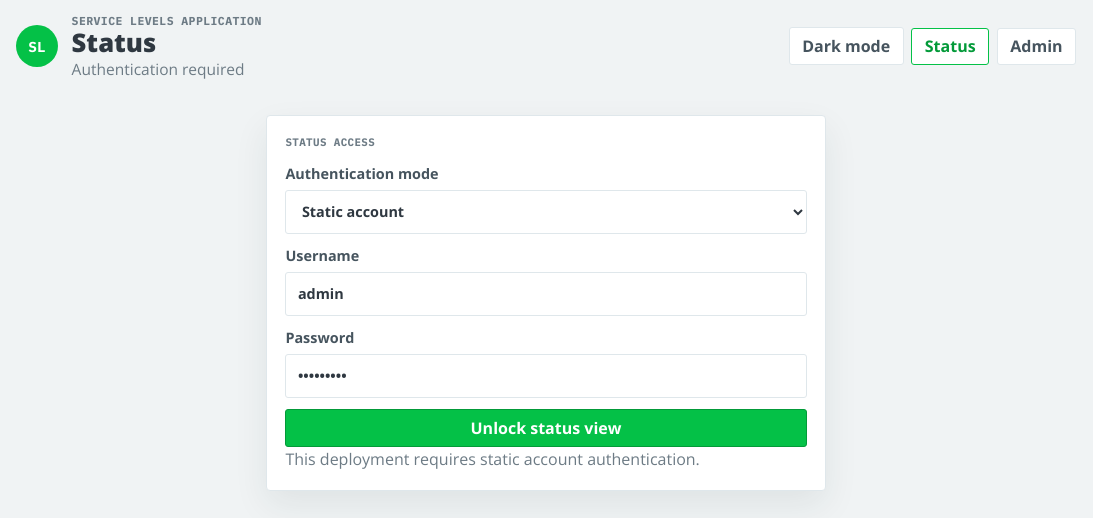
Test: status UI › shows an error when local status-page authentication fails
Expected: the text "Status access" is shown, [285, 135, 375, 149]
Click the button "Unlock status view" at (546, 428), box [285, 409, 807, 447]
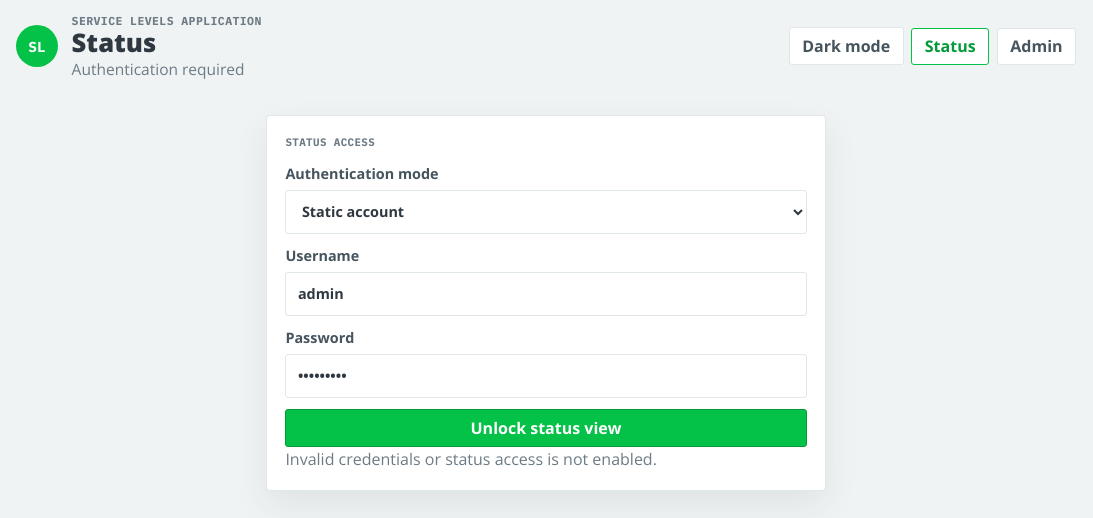
Expected: the text "Invalid credentials or status access is not enabled." is shown, [285, 448, 657, 470]
